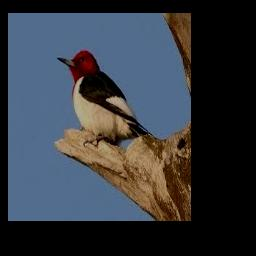Woodpecker: (57, 50, 149, 141)
